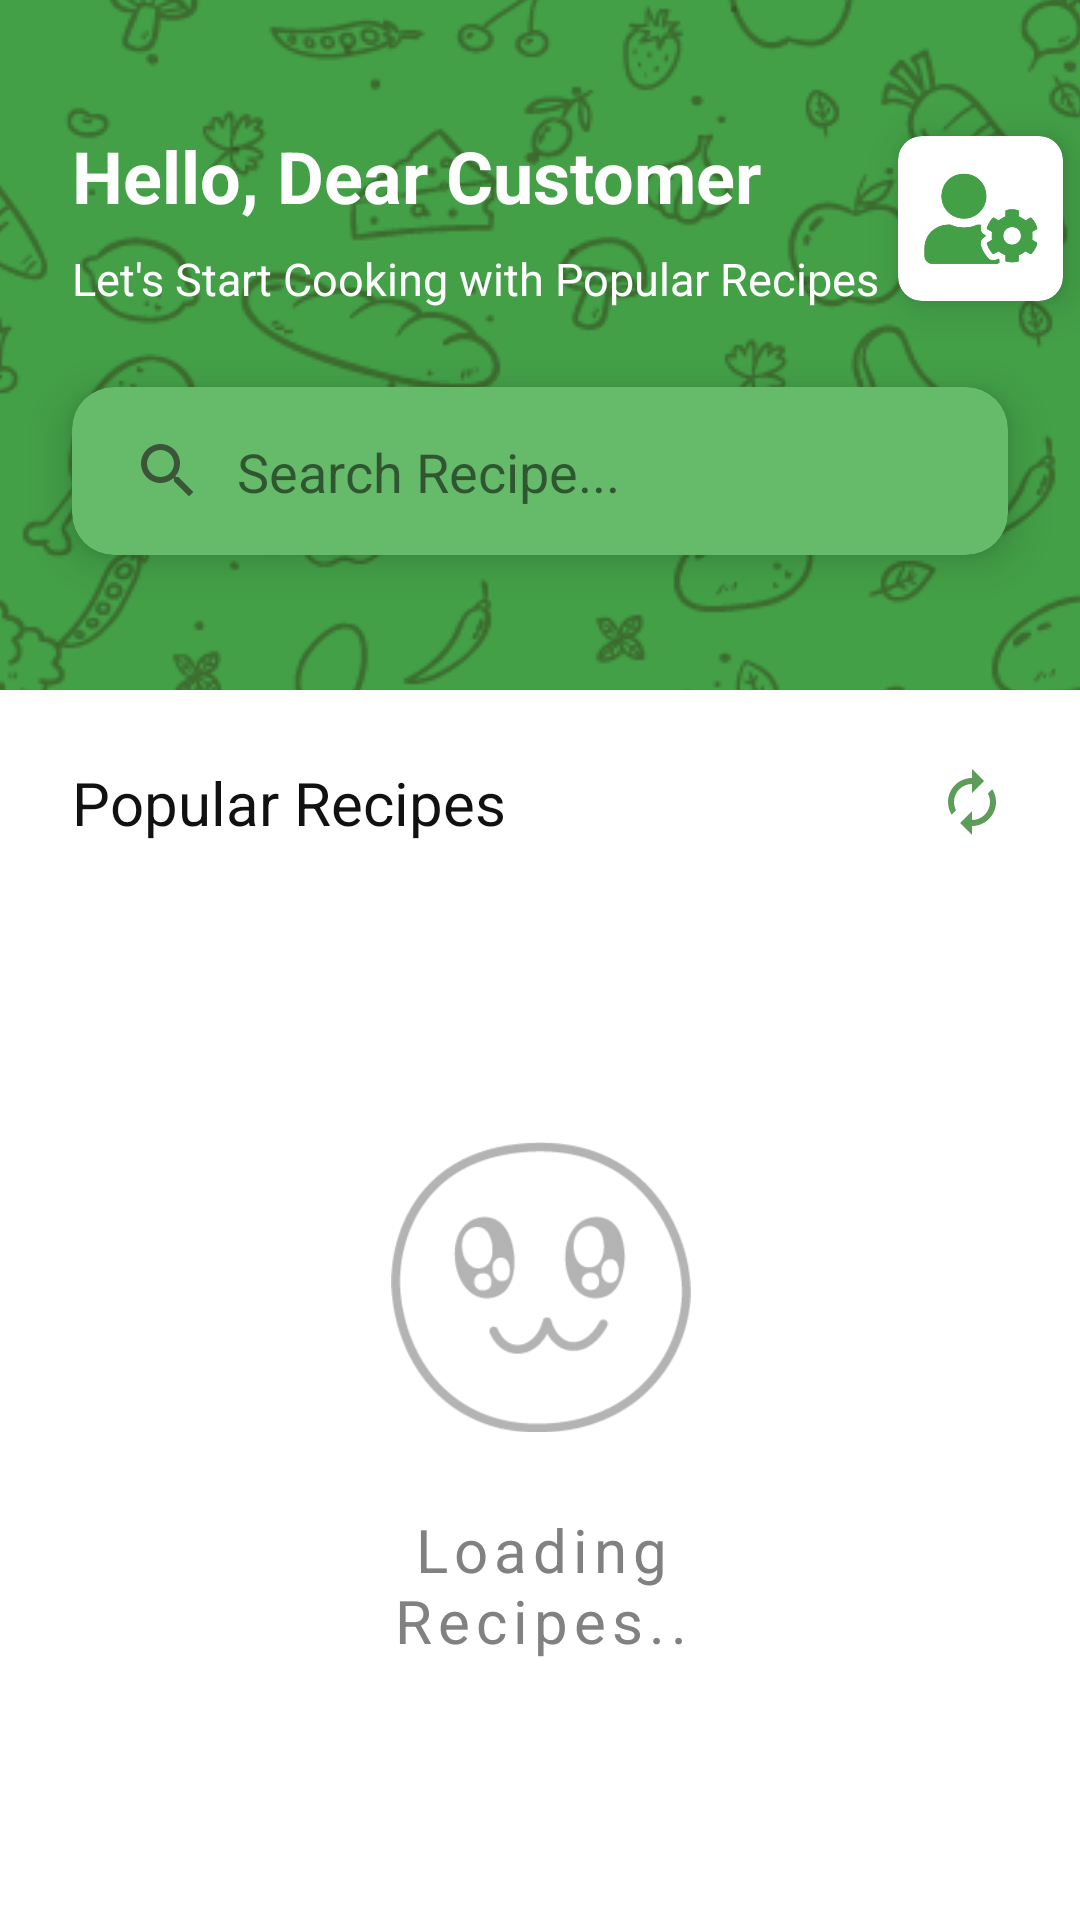

Point at icon controls on the screen. Image size 1080*1920, points as (x=x, y=y).
emojy: (x=541, y=1287)
profile: (x=980, y=218)
reload: (x=972, y=802)
